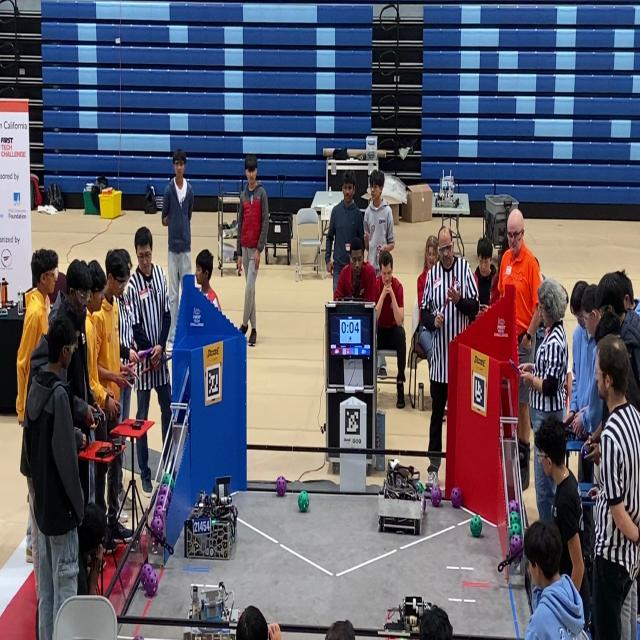artifact_green: (298, 490, 310, 513), (430, 485, 442, 507), (470, 515, 482, 537), (161, 473, 174, 491), (509, 523, 522, 539), (510, 512, 521, 525), (509, 500, 520, 513), (161, 473, 170, 485), (507, 525, 513, 541), (417, 482, 423, 494), (170, 476, 174, 491), (211, 519, 216, 526)
artifact_purple: (114, 562, 132, 593), (144, 570, 158, 596), (510, 535, 522, 560), (141, 563, 154, 586), (150, 517, 163, 539), (121, 562, 132, 587), (450, 487, 462, 509), (430, 486, 441, 507), (276, 476, 287, 497), (156, 494, 168, 510), (158, 485, 168, 499), (509, 500, 519, 514), (154, 505, 164, 517), (157, 491, 166, 503), (421, 494, 426, 514), (167, 488, 172, 507), (134, 635, 144, 639)
